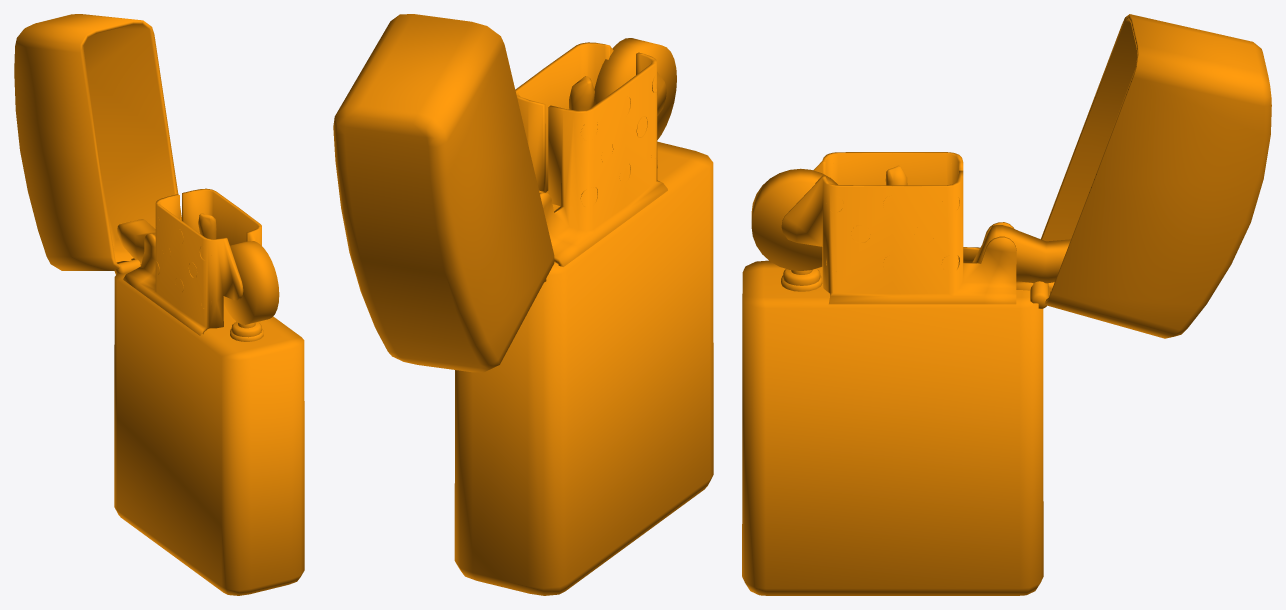
The model's file is Lighter 1.fbx.
3 views of the same model, side by side, from view 1: azimuth 30°, elevation 25°; view 2: azimuth 150°, elevation 25°; view 3: azimuth 270°, elevation 25° (orthographic). The views are drawn at different scales.
Visible parts, largest first — view 1: OilLighter002.002; view 2: OilLighter002.002; view 3: OilLighter002.002.
Boxes of the visible parts, left/top/right/bottom form: OilLighter002.002: left=14, top=14, right=304, bottom=595; OilLighter002.002: left=333, top=14, right=713, bottom=595; OilLighter002.002: left=742, top=14, right=1271, bottom=595.
Size of the model in its own units: 2.86 by 13.03 by 11.43.
